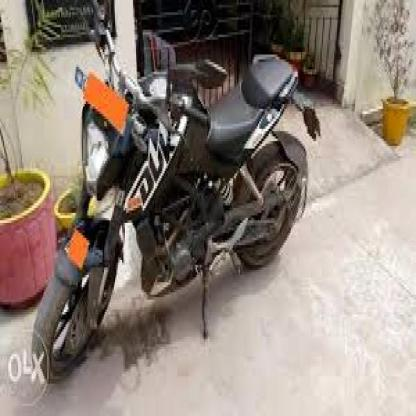bike: (80, 53, 309, 338)
